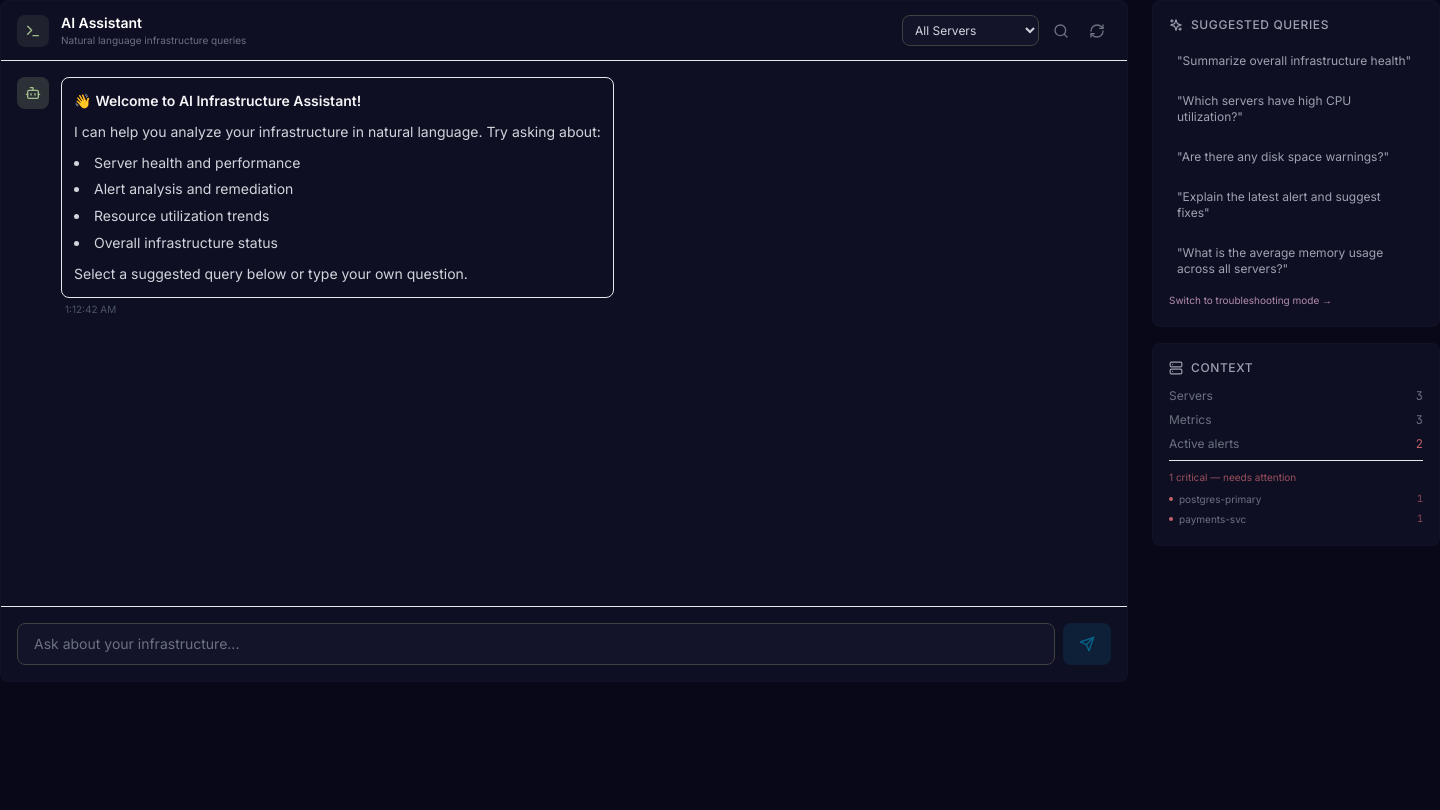
Test: AIChat › switches back from troubleshoot to general mode
Note: Toggle on
What coordinates should you click on to do the following:
click the button titled "Show troubleshooting queries"
I would click on:
 (1061, 30)
Its box is [1047,16,1075,44].
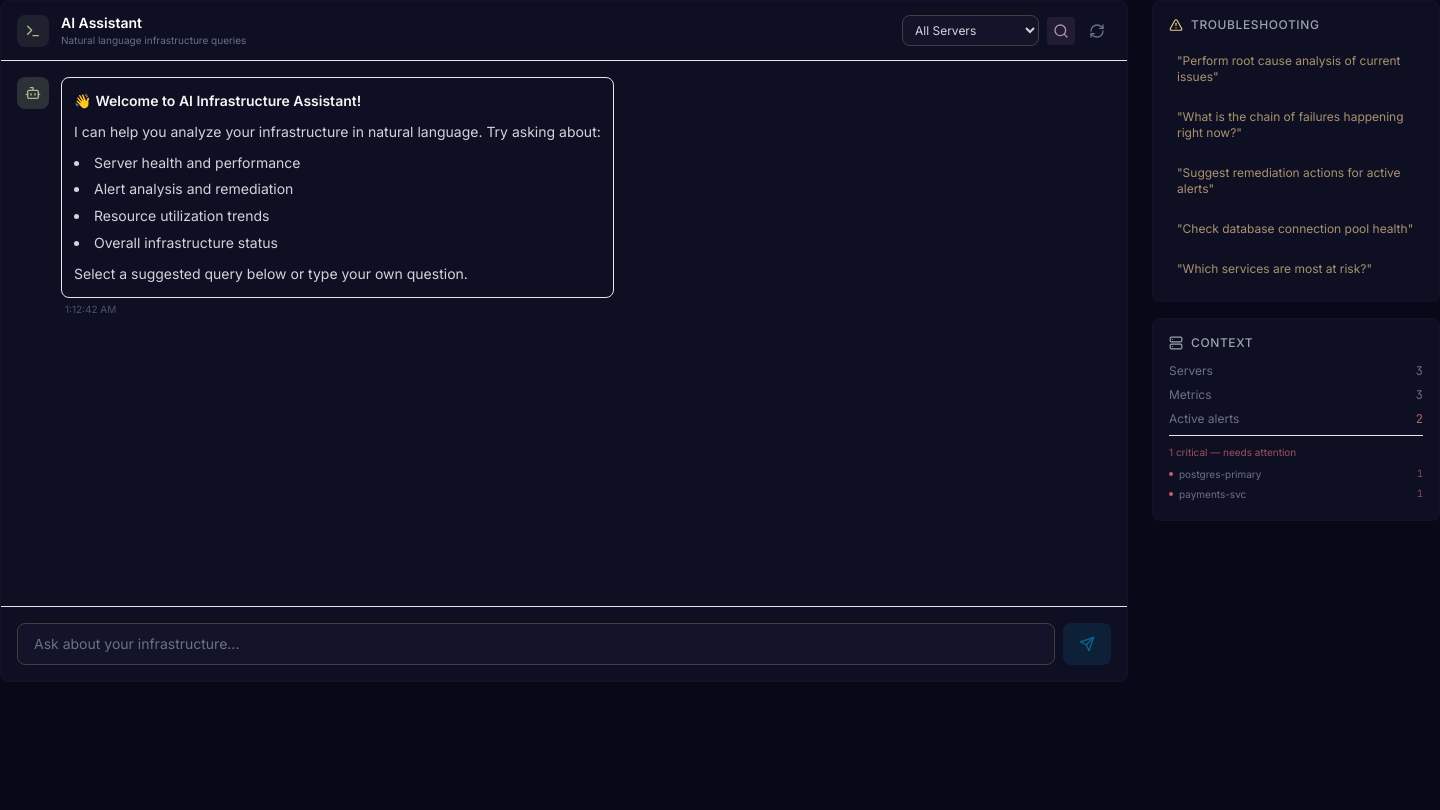
Result: the heading "Troubleshooting" is shown at [1169,17,1320,32]
Note: Toggle off
What coordinates should you click on to do the following:
click the button titled "Show troubleshooting queries"
I would click on:
 (1061, 30)
Its box is [1047,16,1075,44].
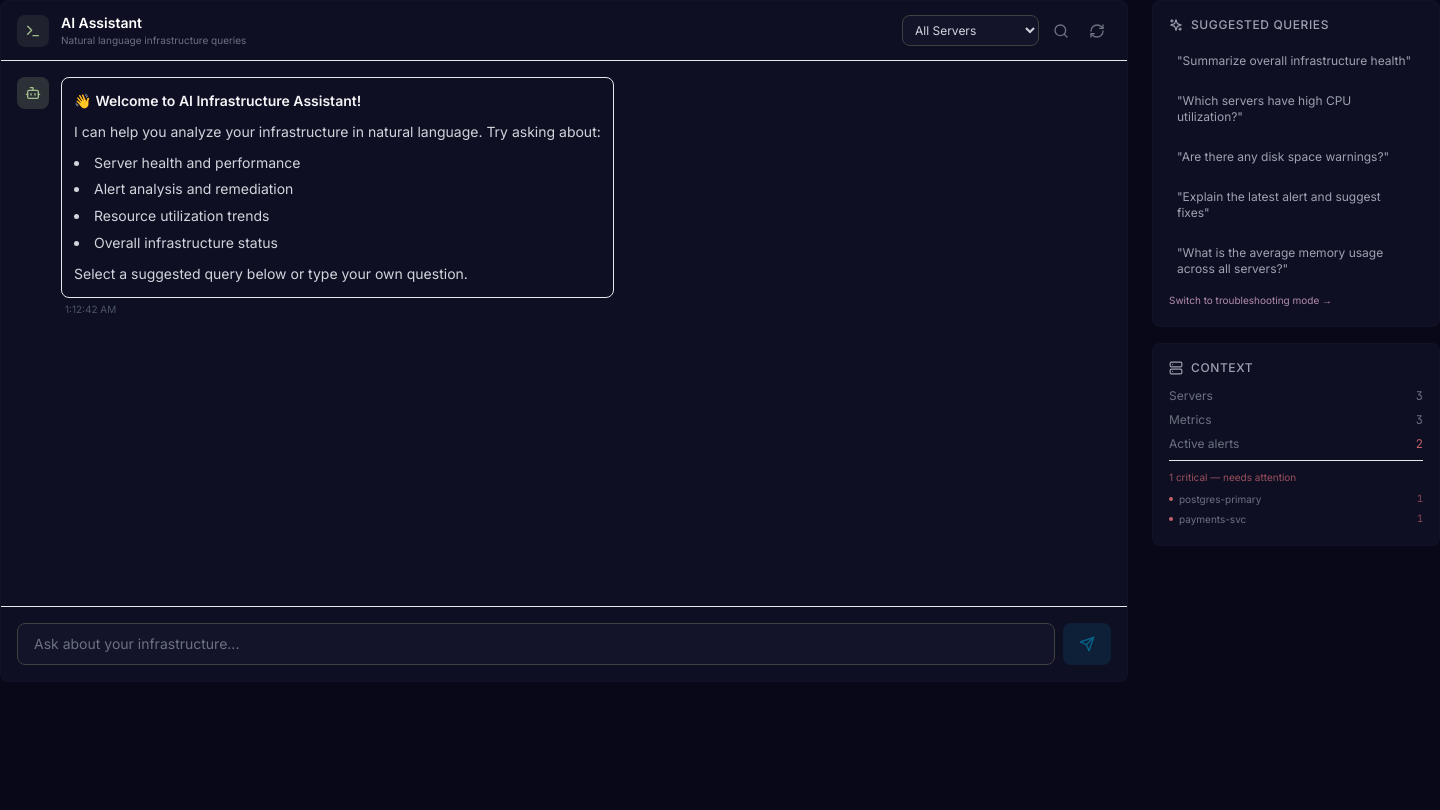
Result: the heading "Suggested Queries" is shown at [1169,17,1329,32]
